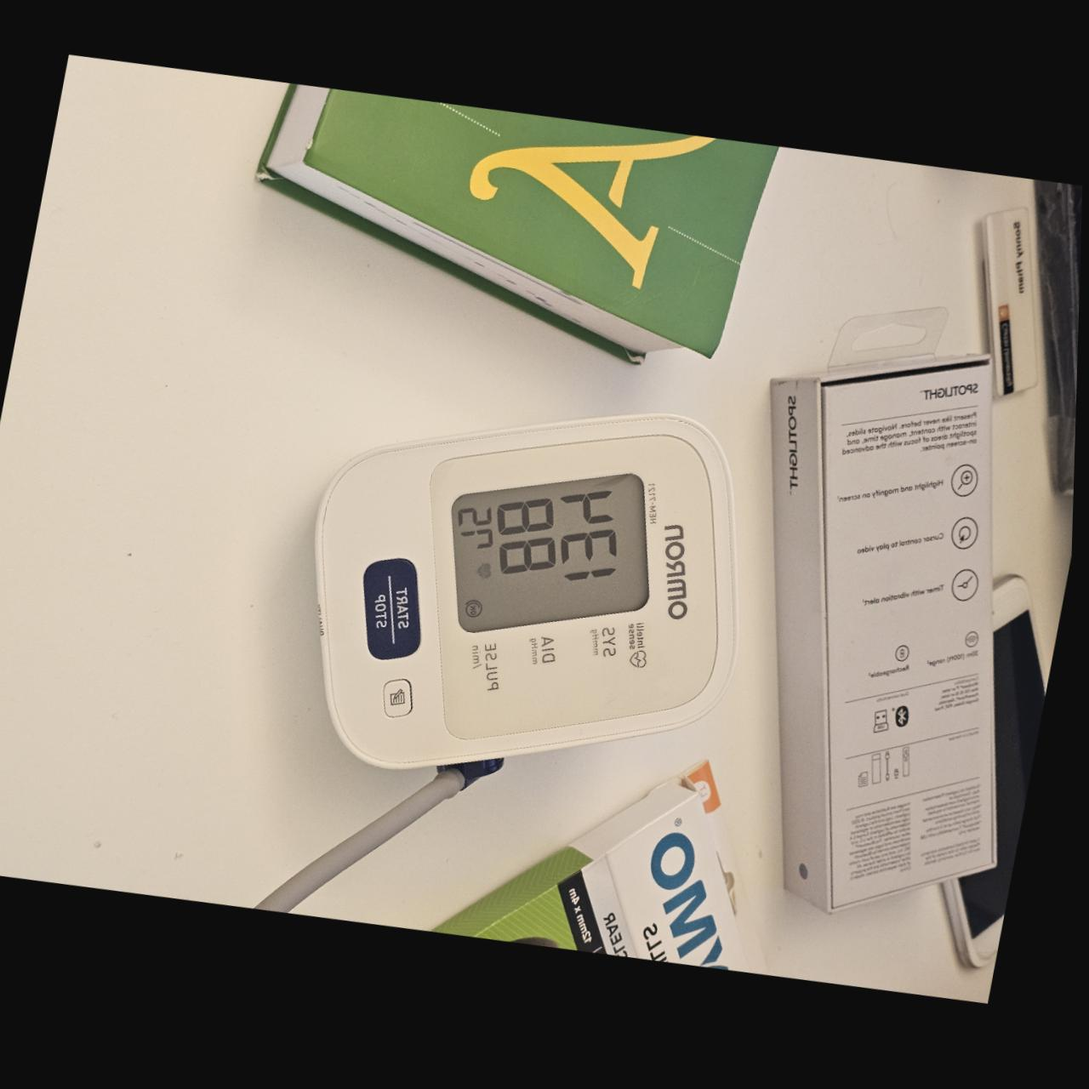blood pressure monitor: (268, 354, 785, 823)
